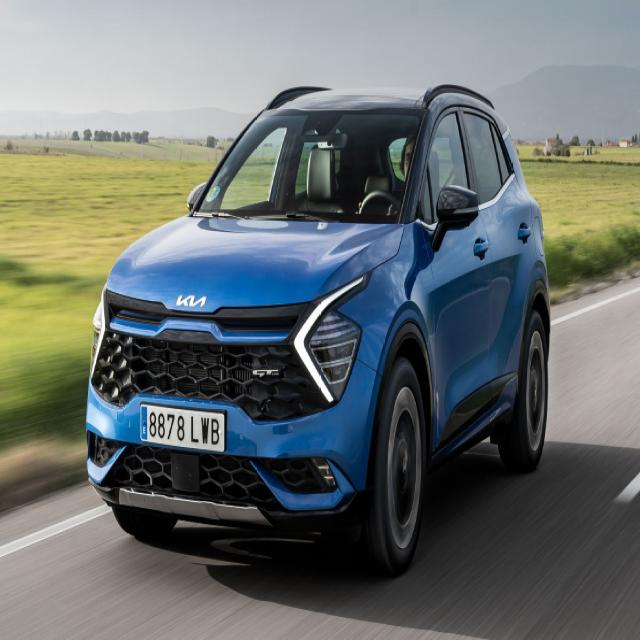License-Plate: (139, 401, 225, 454)
